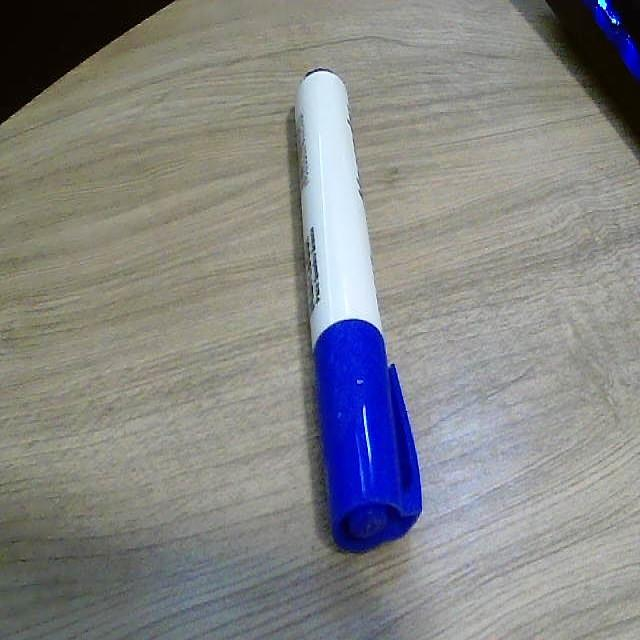caneta: (276, 52, 441, 556)
